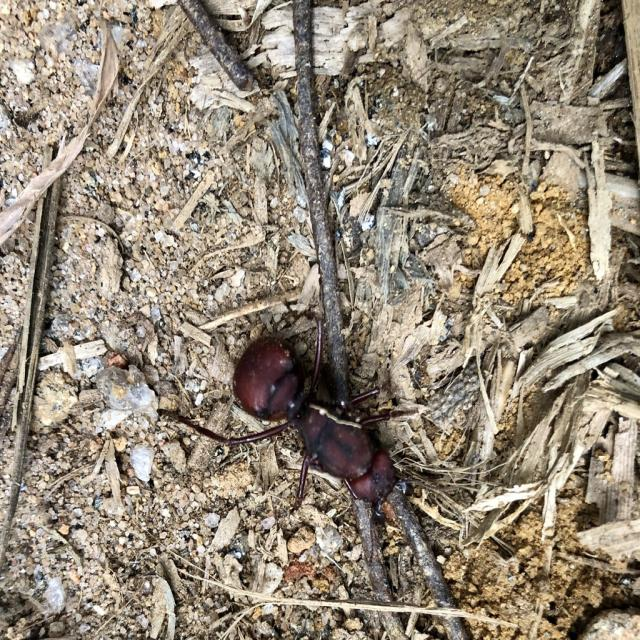Alive-Female-Dealate: (156, 316, 419, 521)
